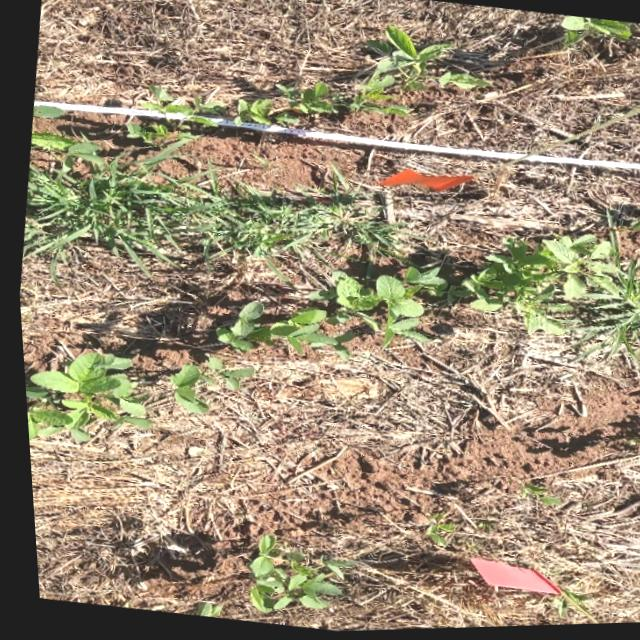caruru_weed: (460, 238, 616, 337)
grassy_weed: (20, 132, 388, 266), (544, 212, 640, 362)
soy_plant: (125, 27, 492, 143), (212, 269, 446, 359), (20, 352, 143, 441), (241, 536, 343, 614), (166, 357, 248, 413), (561, 18, 636, 46), (418, 515, 448, 549), (515, 485, 554, 508), (185, 603, 212, 618), (541, 599, 558, 619), (626, 219, 640, 234)
